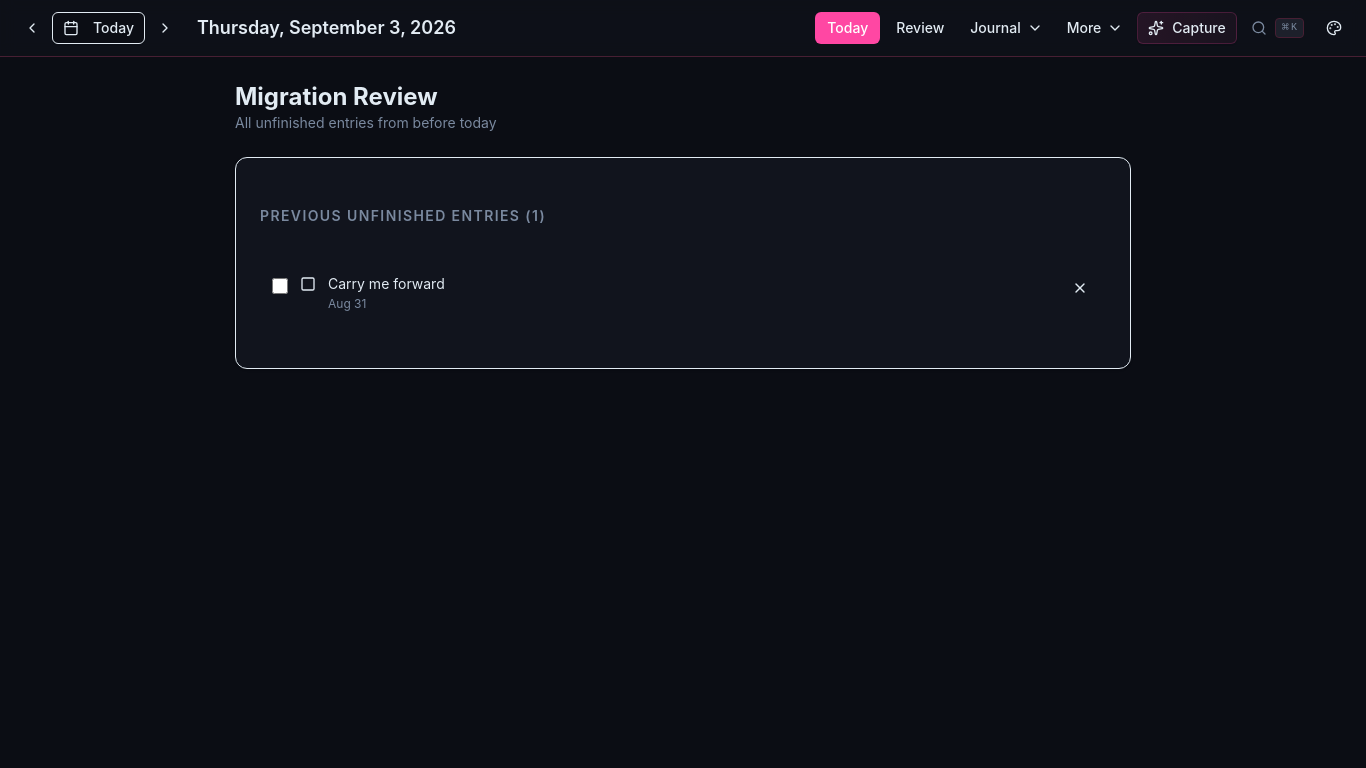
Test: mutation failure recovery › keeps migration selections and exposes retry when migration fails
Click the checkbox. click: (280, 286)
box: left=272, top=278, right=288, bottom=294
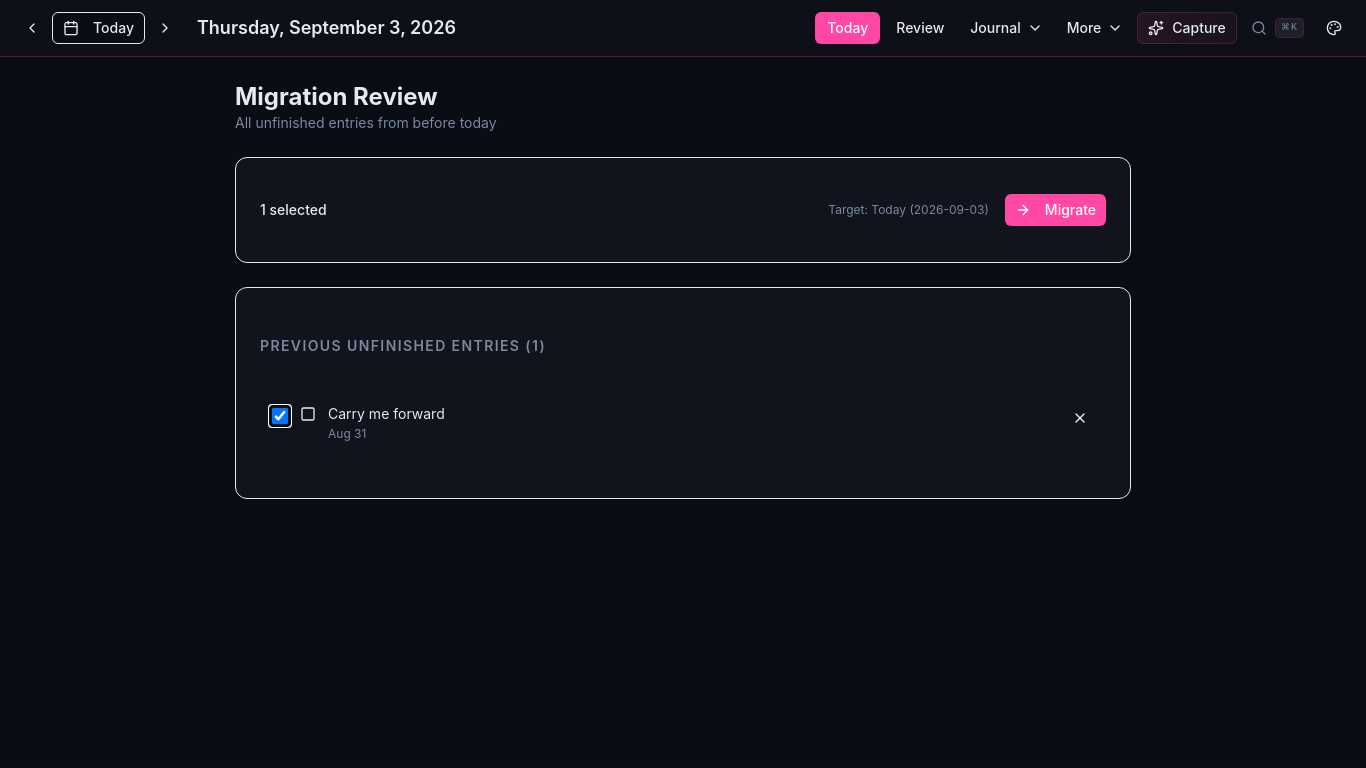
Click the button "Migrate". click: (1055, 210)
box: left=1005, top=194, right=1106, bottom=226
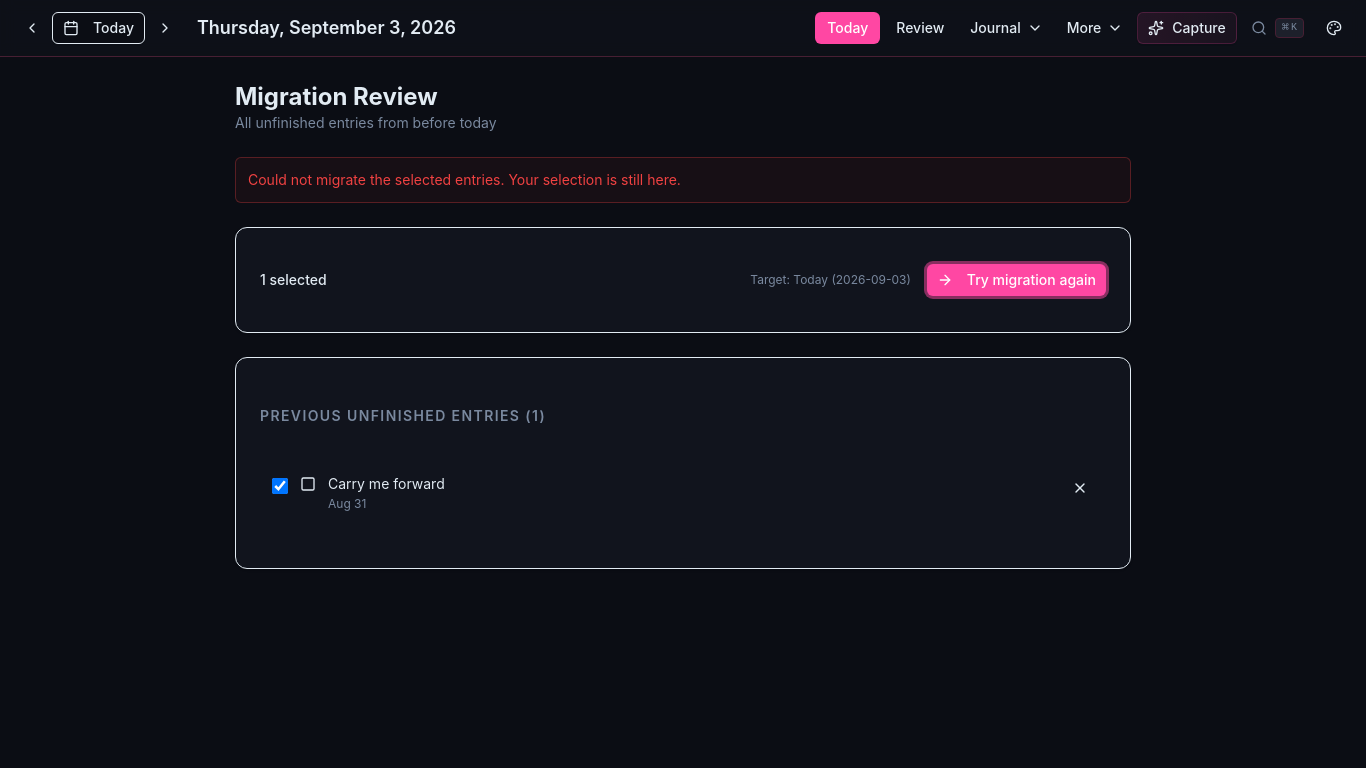
Expected: the checkbox is checked, left=272, top=478, right=288, bottom=494
Expected: the message shows "Could not migrate", left=248, top=171, right=681, bottom=188
Expected: the button "Try migration again" is shown, left=927, top=264, right=1106, bottom=296
